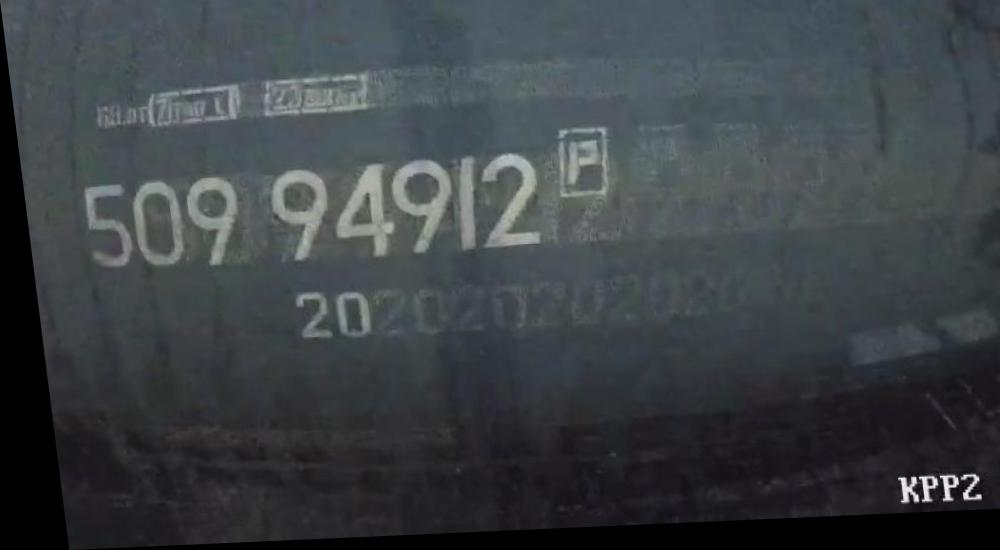Wagon-number: (67, 150, 544, 275)
